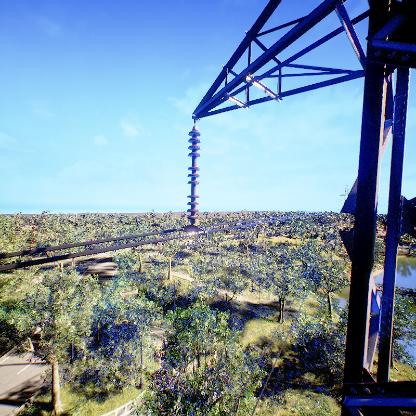insulator: (185, 128, 204, 224)
